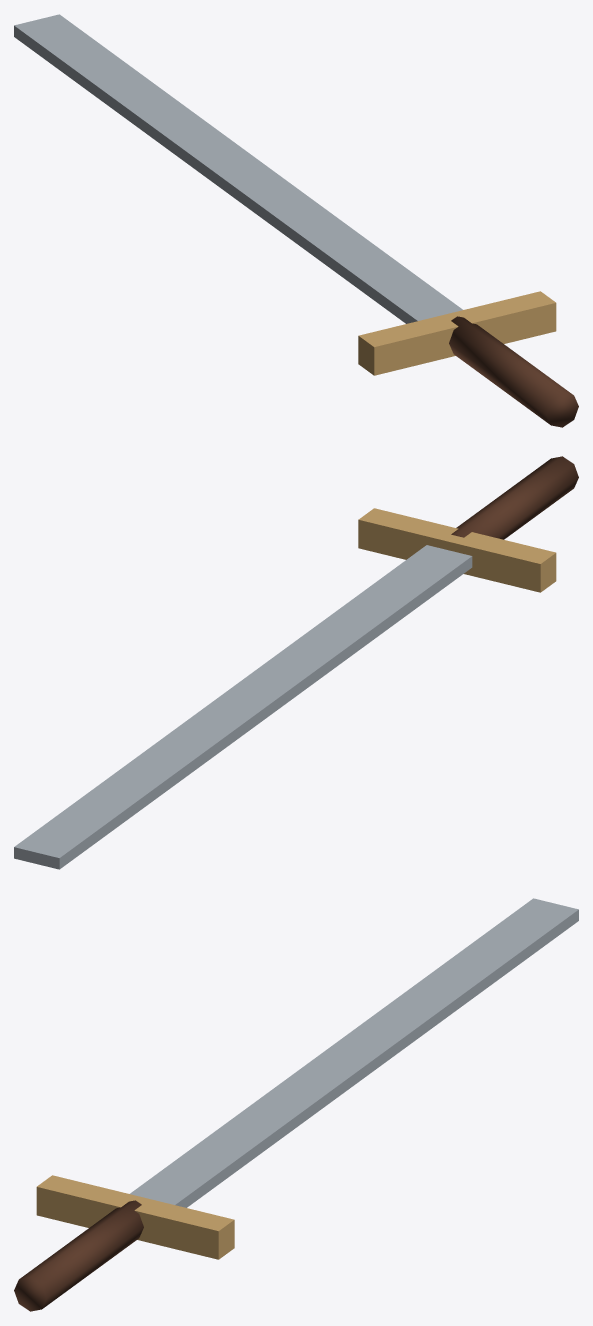
File: sword.glb
3 views of the same model, one above another, from view 1: azimuth 30°, elevation 25°; view 2: azimuth 150°, elevation 25°; view 3: azimuth 330°, elevation 25° (orthographic).
Parts seen in each view (by area): view 1: Blade, Guard, Grip; view 2: Blade, Guard, Grip; view 3: Blade, Guard, Grip.
Boxes of the visible parts, x1,y1,x2,y2 form: Blade: (14,14,462,323); Guard: (358,291,556,375); Grip: (449,316,578,427); Blade: (14,545,472,869); Guard: (358,508,556,592); Grip: (451,456,578,539); Blade: (130,898,578,1207); Guard: (36,1175,234,1259); Grip: (14,1200,143,1311).
Bounding box in the file's own units: 0.2 × 0.036 × 1.
